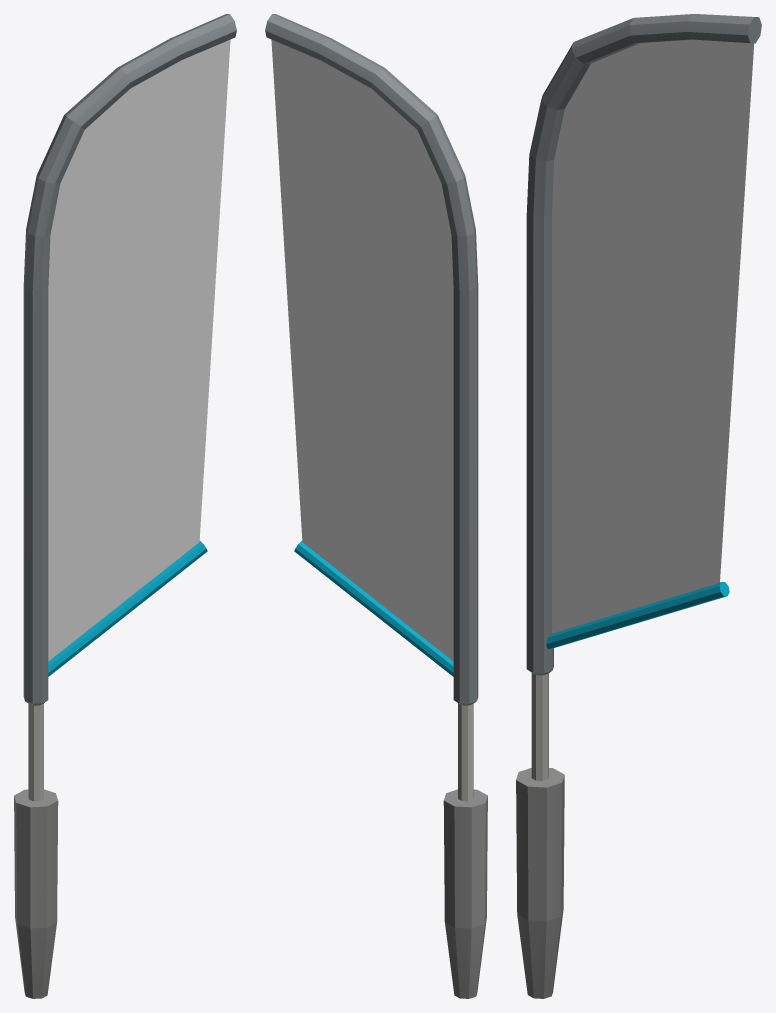
The model's file is StormBanner.glb.
3 views of the same model, side by side, from view 1: azimuth 30°, elevation 25°; view 2: azimuth 150°, elevation 25°; view 3: azimuth 330°, elevation 25° (orthographic). The views are drawn at different scales.
Visible parts, largest first — view 1: StormBanner; view 2: StormBanner; view 3: StormBanner.
Boxes of the visible parts, bbox=[...] form: StormBanner: bbox=[14, 14, 236, 998]; StormBanner: bbox=[265, 14, 487, 998]; StormBanner: bbox=[516, 14, 761, 998].
Bounding box in the file's own units: 1.36 × 5.65 × 0.2509.
